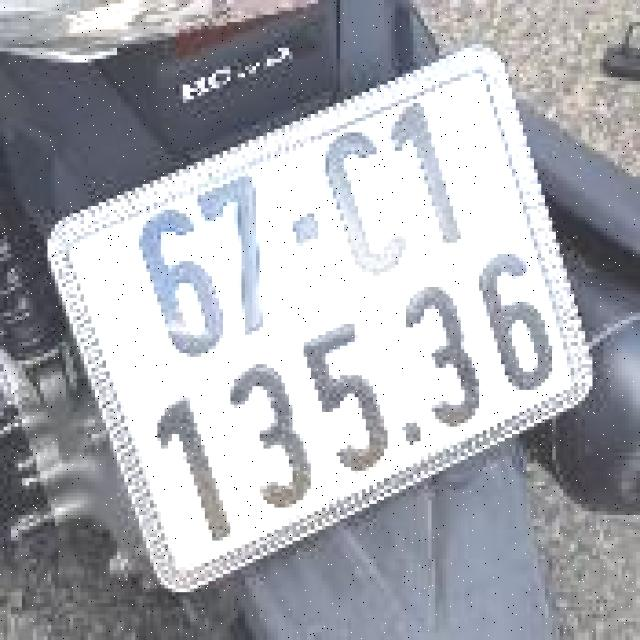1: (375, 79, 494, 274), (136, 373, 256, 565)
3: (220, 342, 339, 528), (385, 267, 496, 441)
5: (284, 316, 408, 489)
6: (125, 199, 236, 375), (465, 239, 573, 414)
7: (189, 160, 319, 353)
C: (310, 118, 426, 298)
